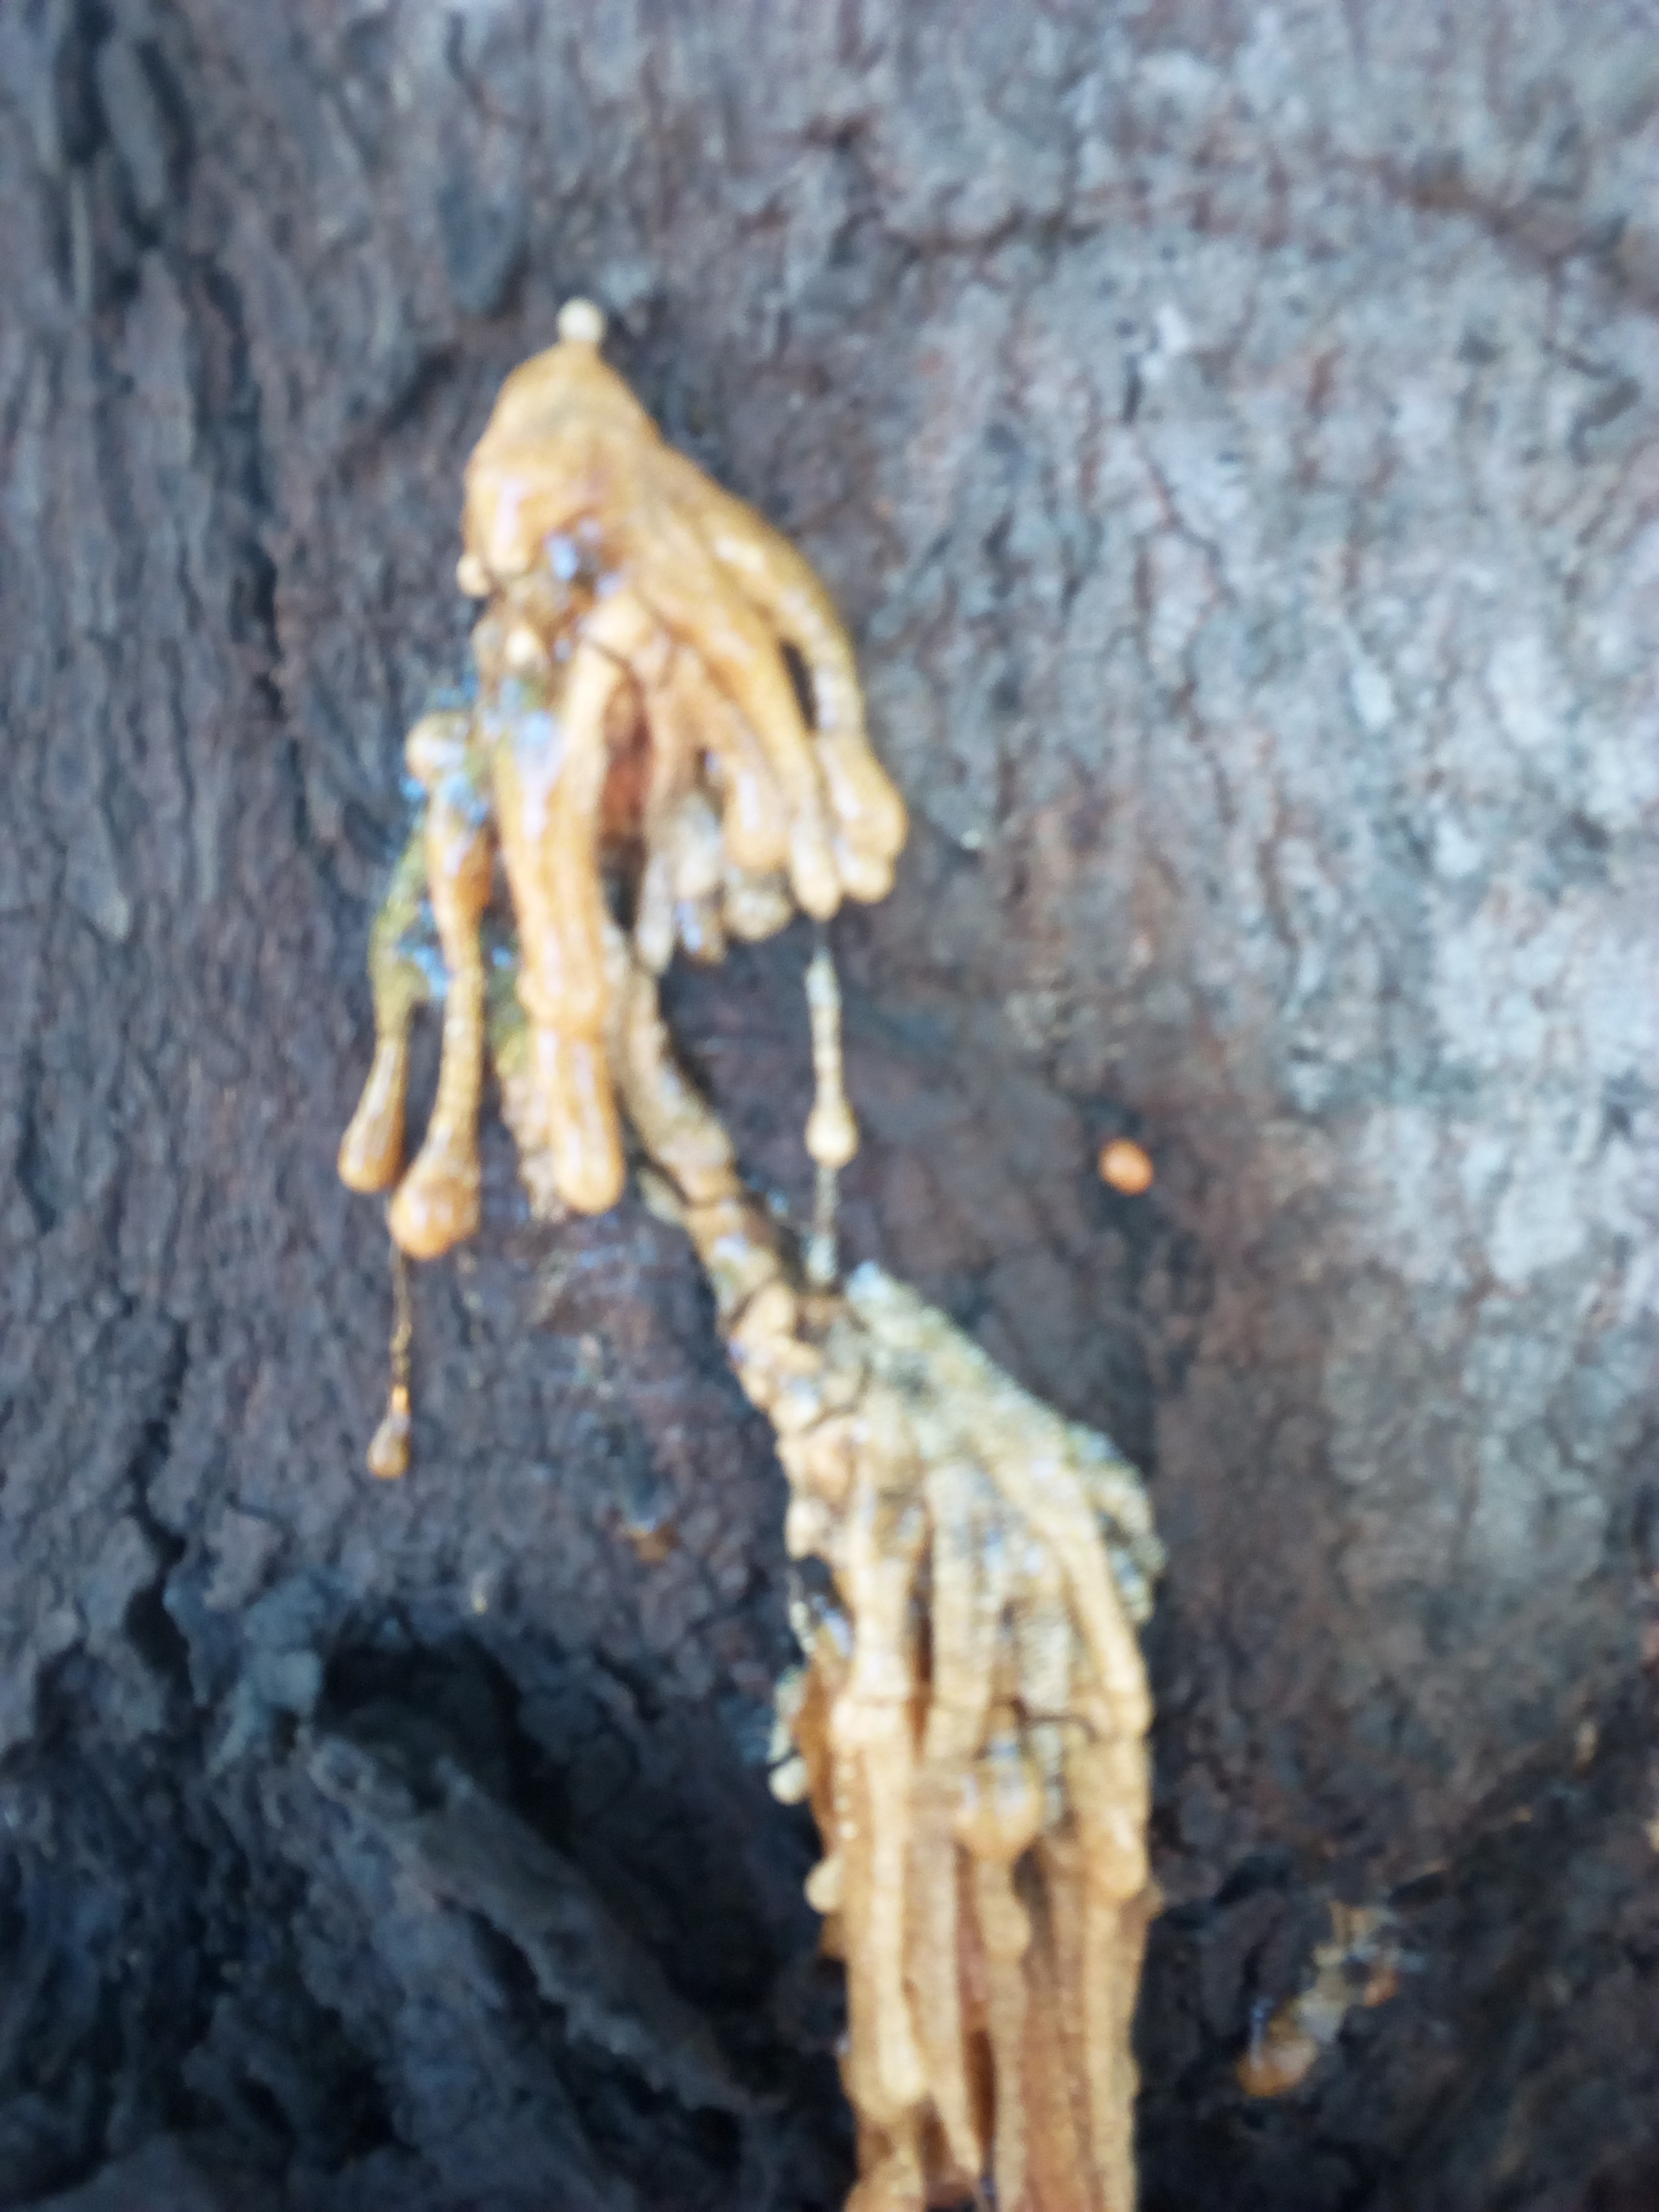Gommose: (403, 336, 873, 1285), (741, 1329, 1175, 2212)
